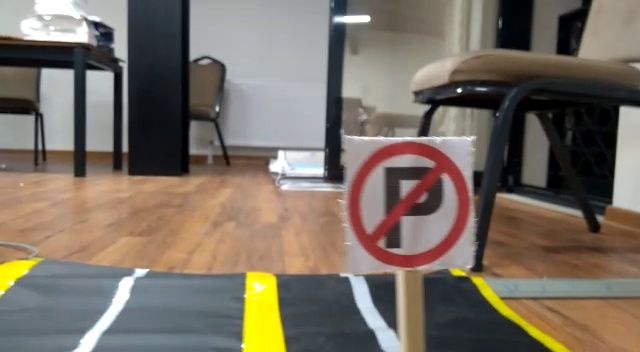park_yapilmaz: (341, 138, 475, 271)
